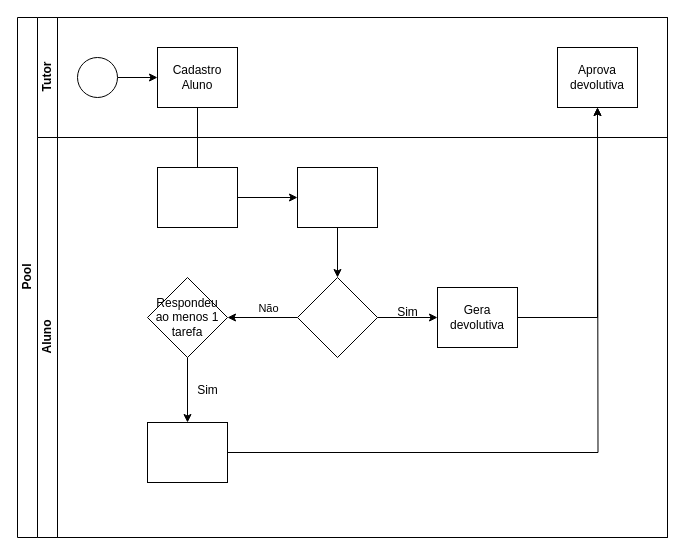
The diagram is 685 pixels wide and 555 high, and some of its shapes have lost their labels. Here are the shapes that lost their labels. From the top down, the centre of each, then its label:
(x=197, y=197): Realiza entrevista
(x=337, y=197): Matricula nos cursos
(x=337, y=317): Finaliza o curso
(x=187, y=452): Gera devolutiva após 2 meses
